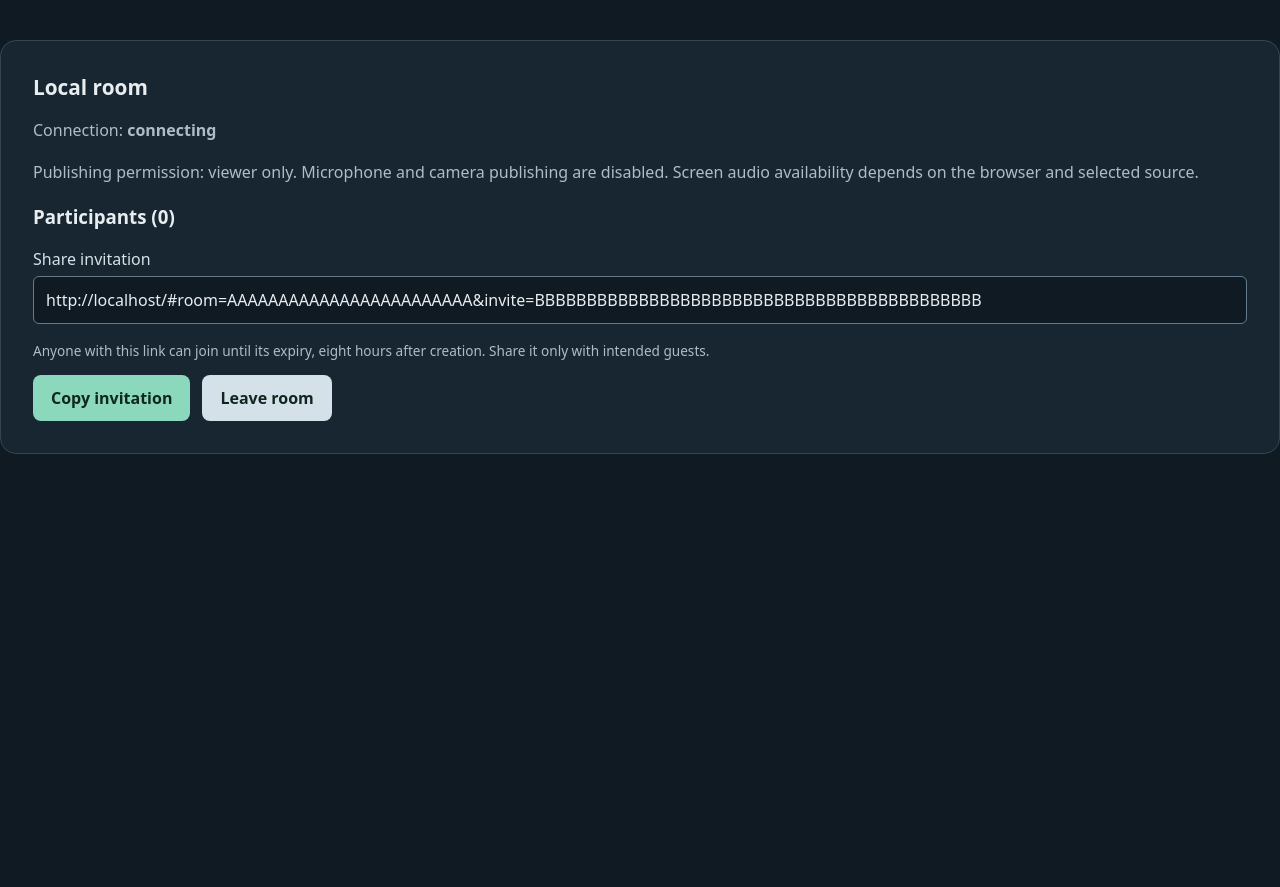
creates room with operator auth, joins with invitation, and leaves
Earlier steps of the test are not shown.
Expected: the heading "Local room" is shown, [33,73,148,101]
Click the button "Leave room".
click(267, 398)  # box [202,375,332,421]
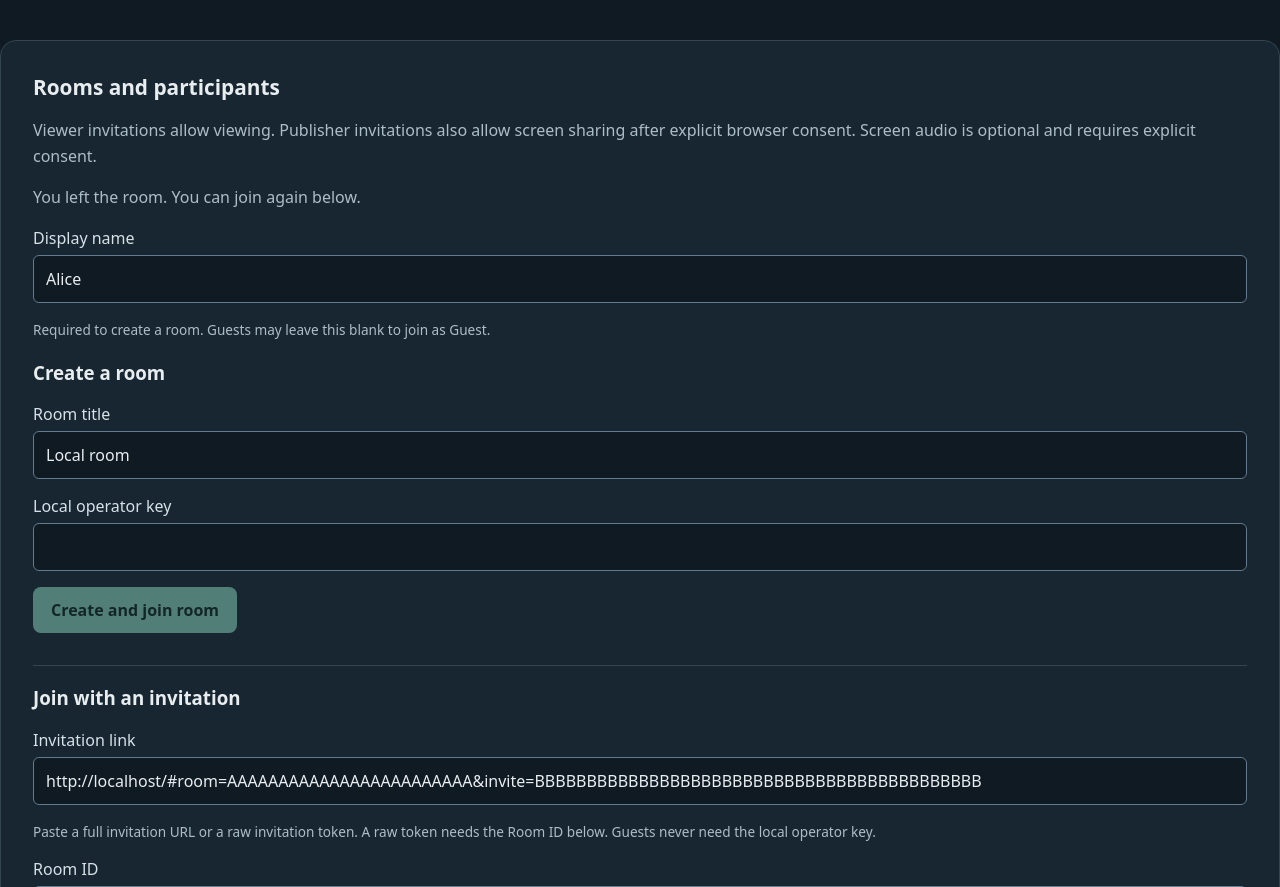
Expected: the password field labelled "Local operator key" is empty, [33,523,1247,571]
Now the message shows "You left", box [33,186,361,208]
